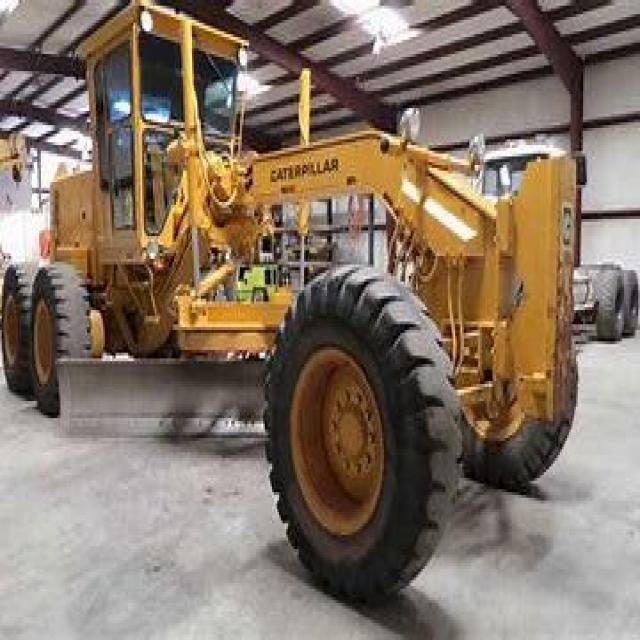Grader: (7, 6, 580, 606)
